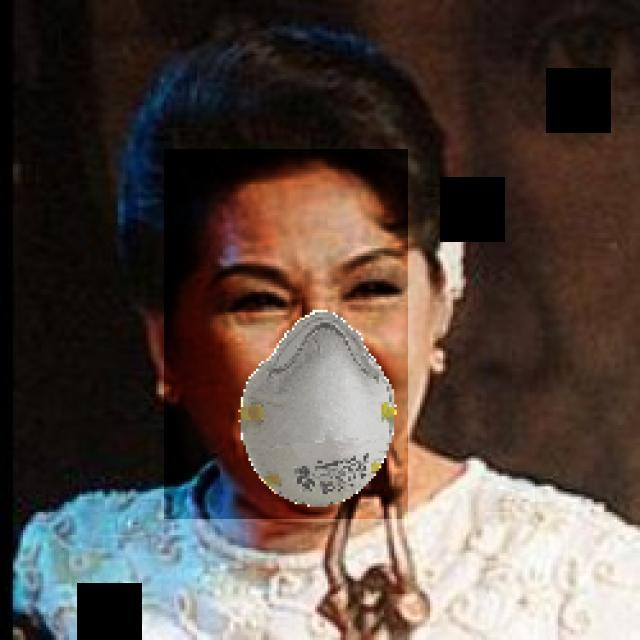n95: (164, 149, 408, 519)
